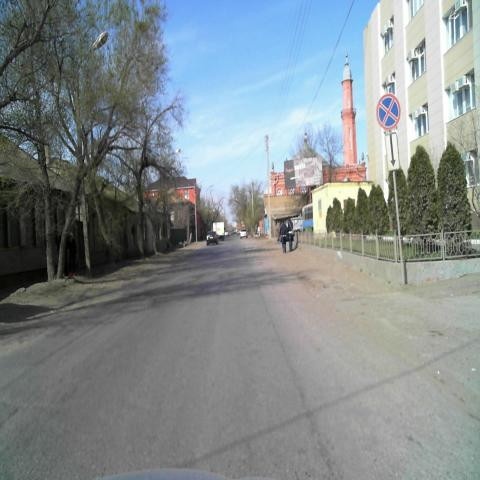8_2_3: (386, 132, 400, 172)
